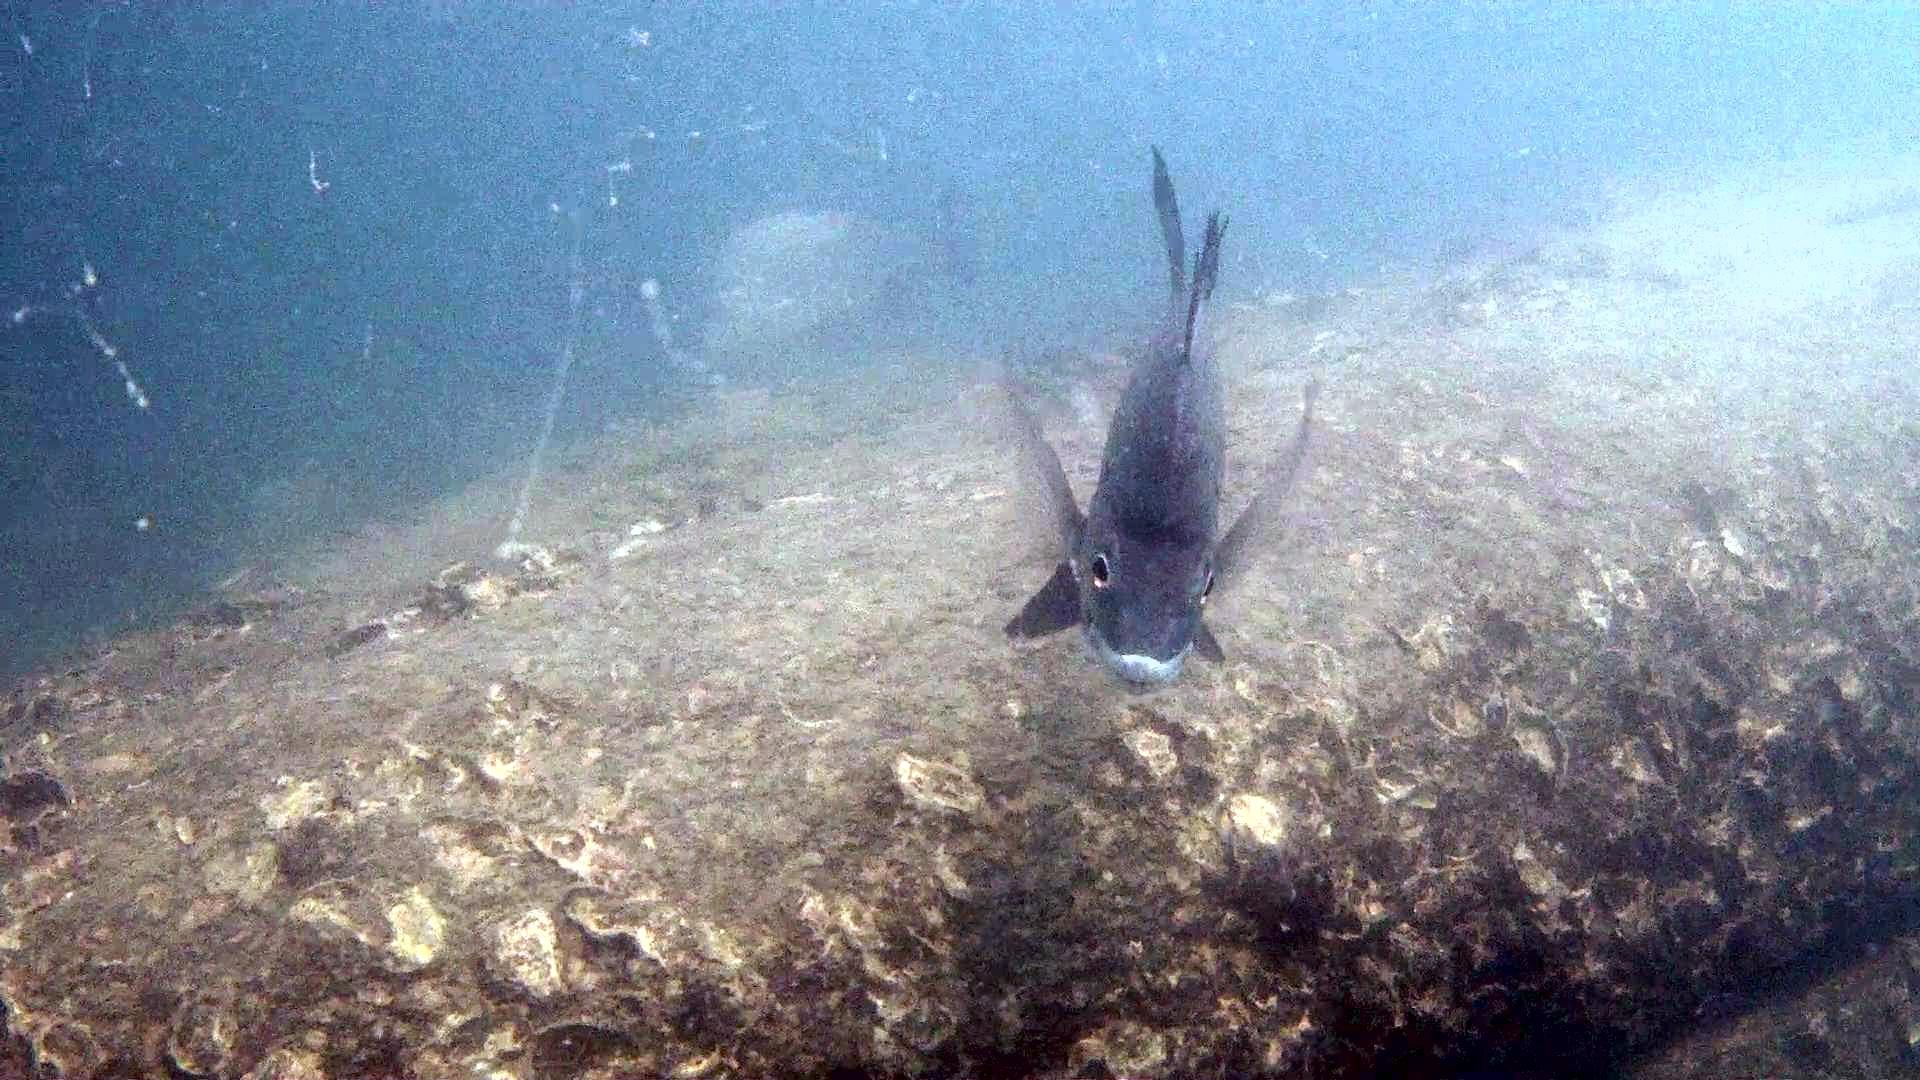acanthopagrus palmaris: (981, 138, 1341, 708)
